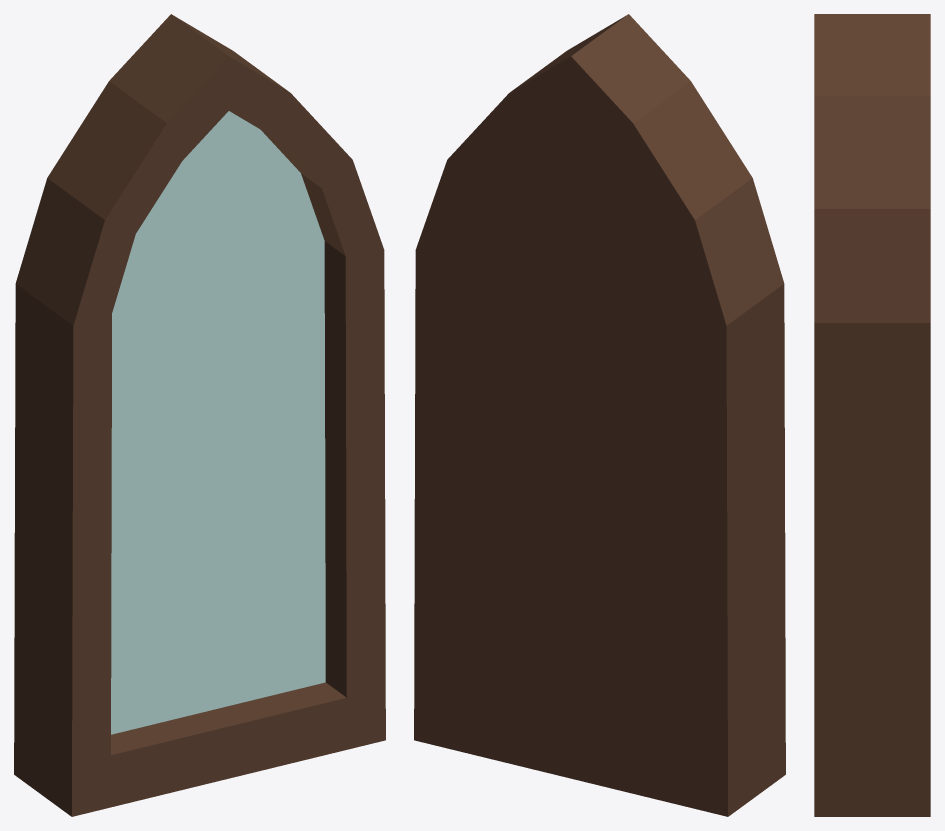
Rendered from quaternius-modular-medieval-buildings-windowgothic.glb.
3 views of the same model, side by side, from view 1: azimuth 30°, elevation 25°; view 2: azimuth 150°, elevation 25°; view 3: azimuth 270°, elevation 25° (orthographic).
Visible parts, largest first — view 1: WindowGothic; view 2: WindowGothic; view 3: WindowGothic.
Part boxes in pixels (x1,y1,x2,y2): WindowGothic: (14, 14, 385, 816); WindowGothic: (414, 14, 785, 816); WindowGothic: (814, 14, 930, 816).
Bounding box in the file's own units: 0.1552 × 0.3412 × 0.0495.
